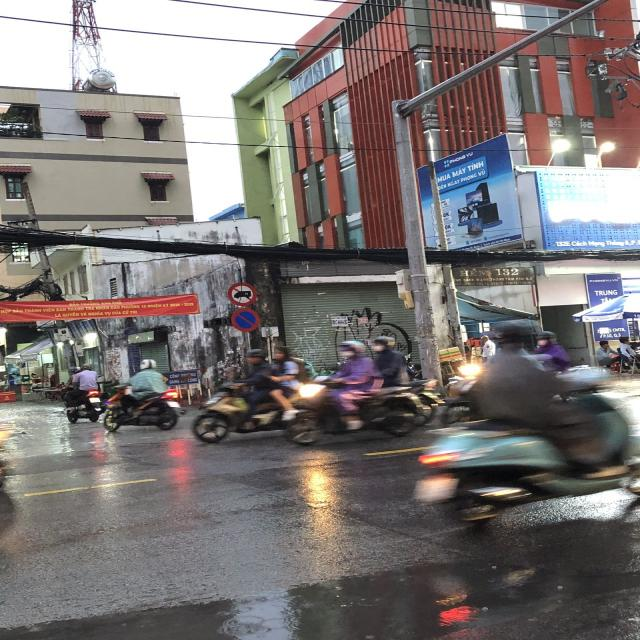Bien bao cam do xe: (230, 306, 262, 332)
Bien bao cam xe oto tai: (226, 280, 257, 306)
